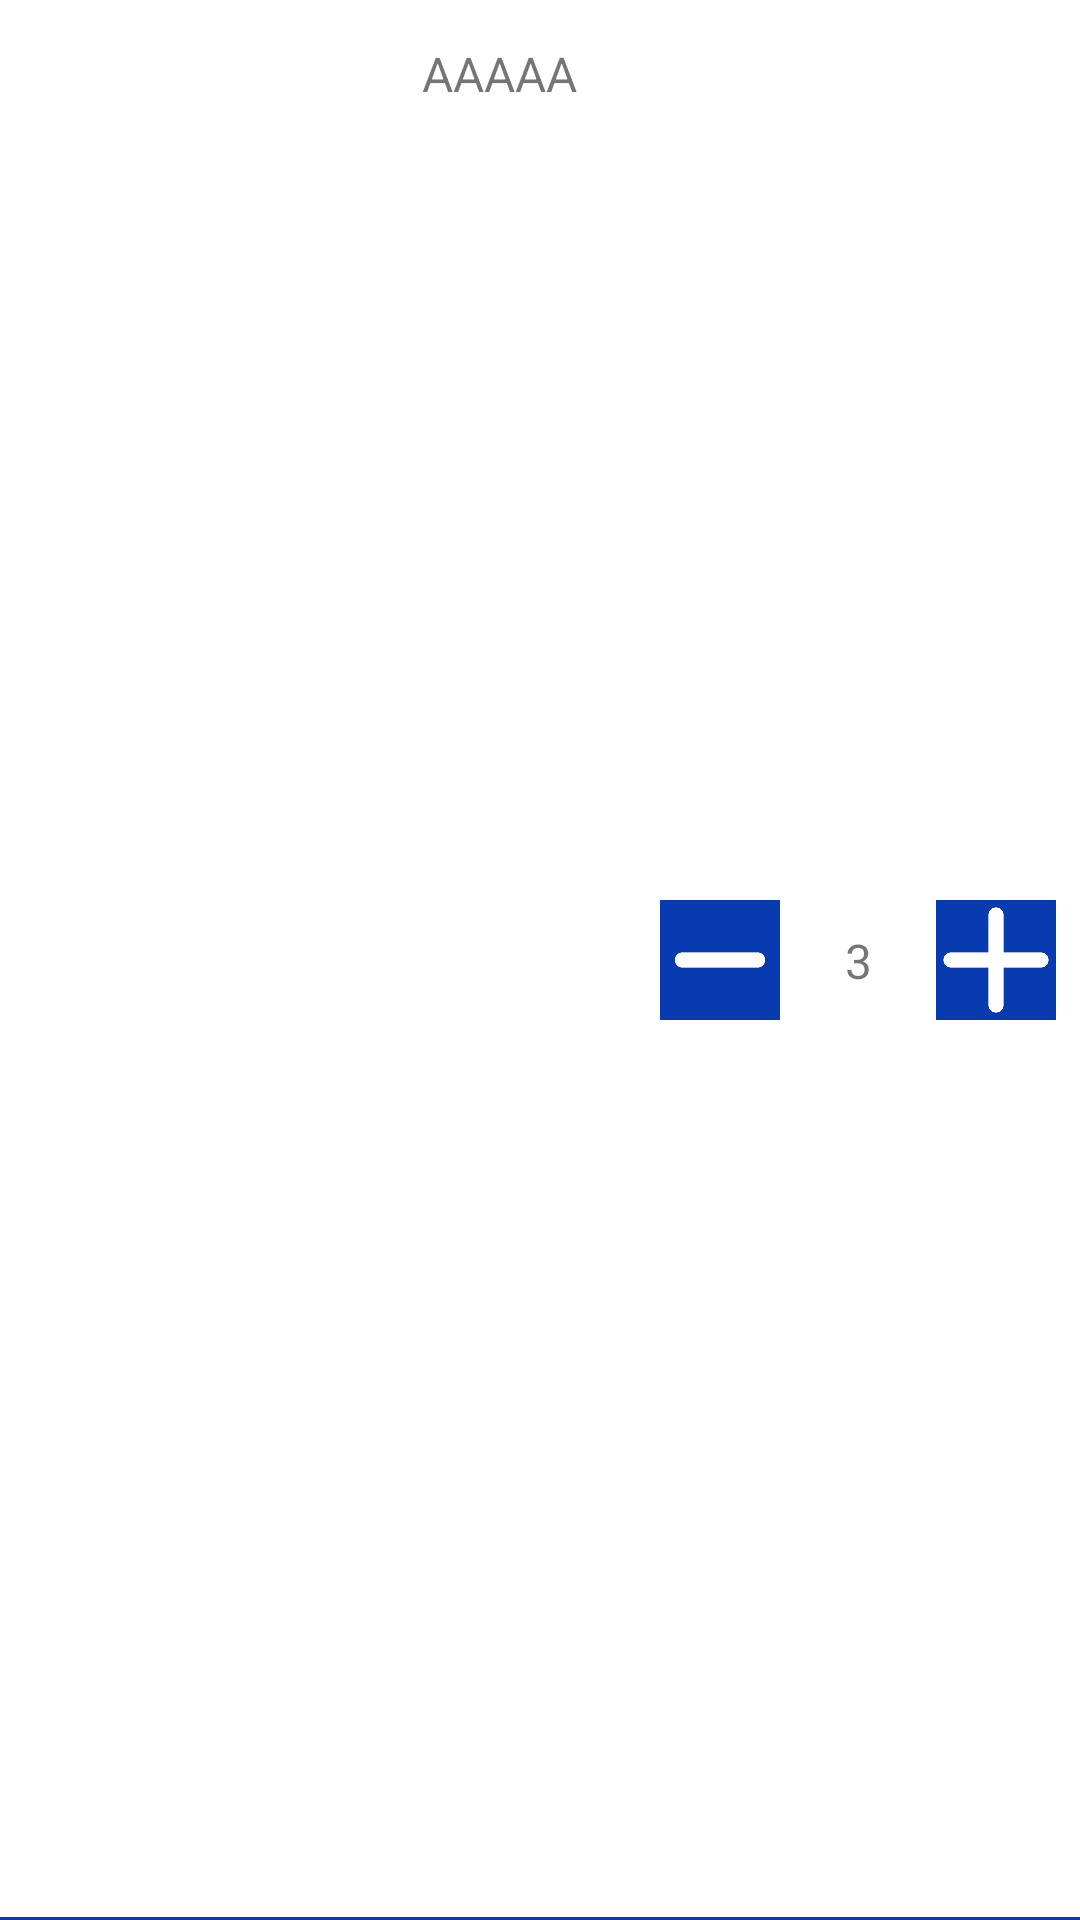

Named icons in this screenshot (1080 x 1920) and their centers, [x,y]:
minus sign: [720,960]
plus sign: [996,960]
